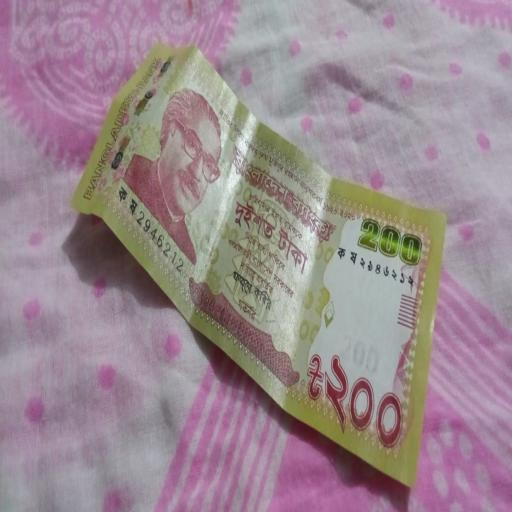200taka: (68, 45, 448, 489)
